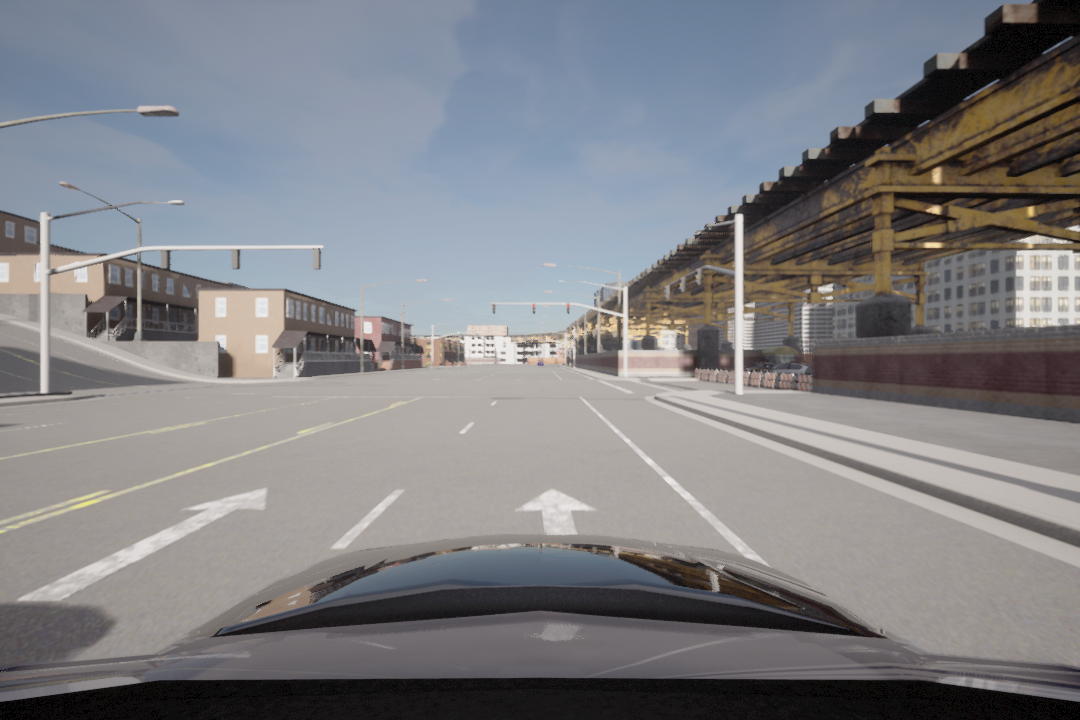RoadSign_forward: (30, 487, 278, 613)
